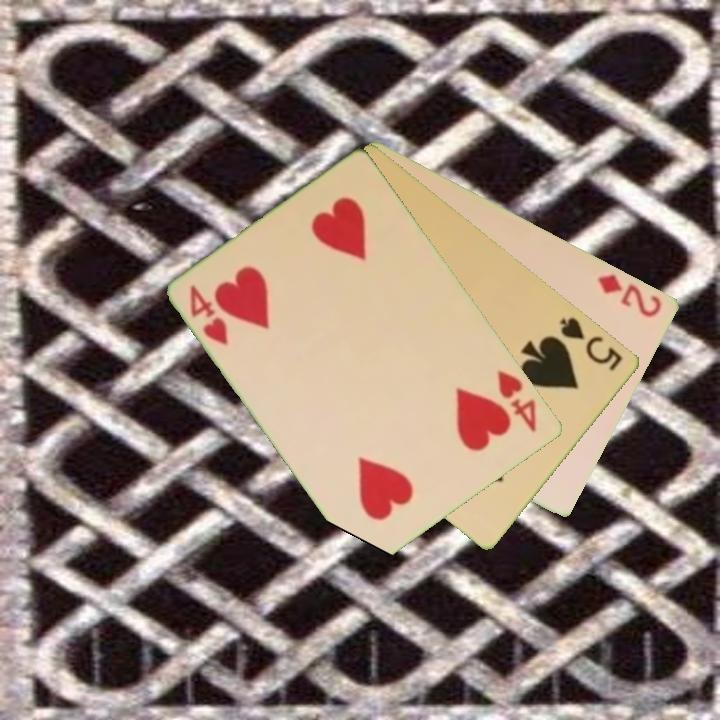2d: (595, 270, 665, 321)
4h: (494, 366, 540, 436), (186, 281, 232, 349)
5s: (557, 313, 626, 374)
